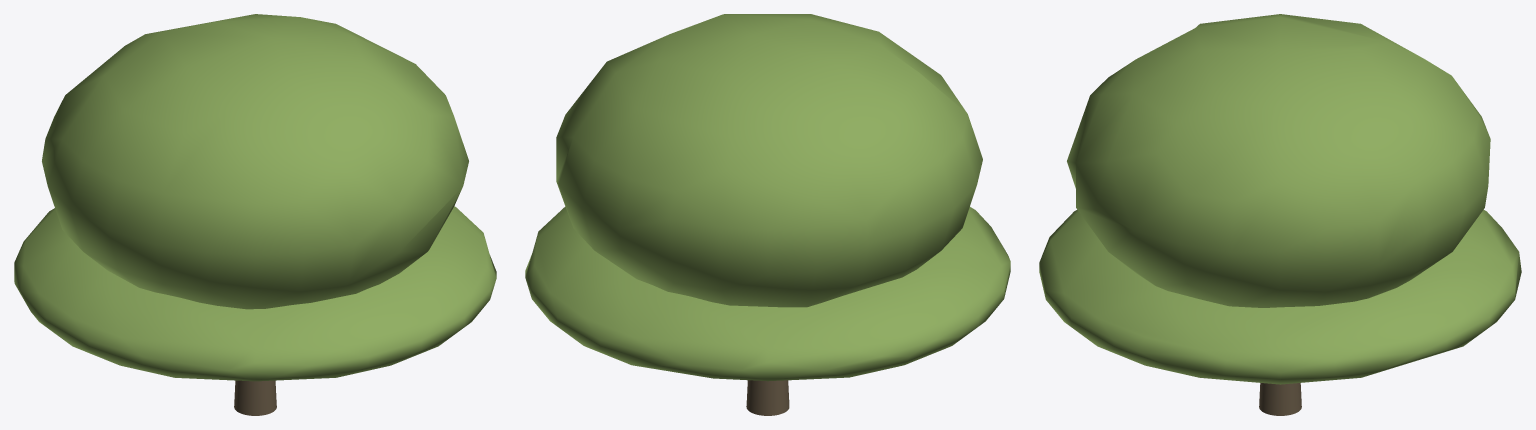
The model's file is e02-weeping-willow.lod1.glb.
3 views of the same model, side by side, from view 1: azimuth 30°, elevation 25°; view 2: azimuth 150°, elevation 25°; view 3: azimuth 270°, elevation 25° (orthographic).
Visible parts, largest first — view 1: part1, part2, part0; view 2: part1, part2, part0; view 3: part1, part2, part0.
Part boxes in pixels (box(x1,y1,x2,y2)): part1: box(42, 14, 468, 309); part2: box(14, 206, 496, 381); part0: box(234, 380, 276, 415); part1: box(556, 14, 982, 307); part2: box(525, 206, 1010, 381); part0: box(746, 380, 789, 415); part1: box(1067, 14, 1490, 307); part2: box(1039, 209, 1521, 384); part0: box(1259, 383, 1301, 415).
Bounding box in the file's own units: 13571 × 11285 × 13535.
